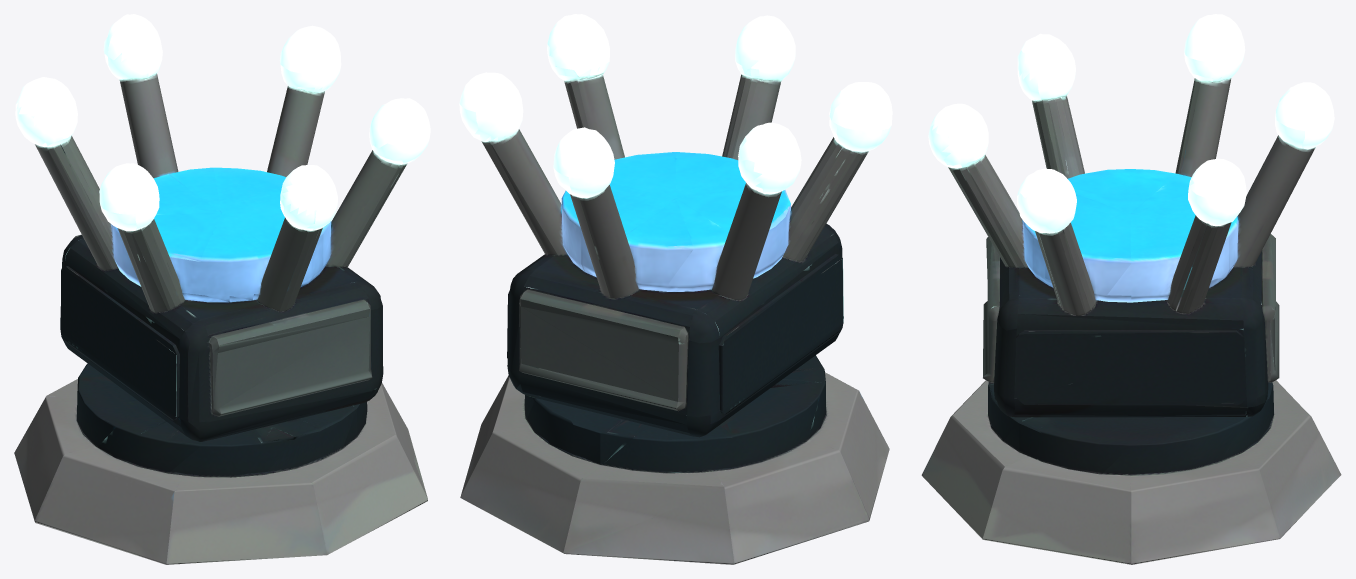
The model's file is orbital-lance.glb.
The picture shows the model from 3 angles, left to right: view 1: azimuth 30°, elevation 25°; view 2: azimuth 150°, elevation 25°; view 3: azimuth 270°, elevation 25°; orthographic projection. The views are drawn at different scales.
Bounding box in the file's own units: 0.9766 × 1 × 0.9629.
1 material, 1 textured.
